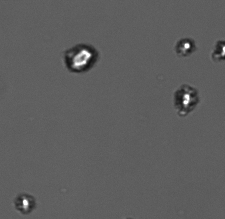Living Cell: (65, 43, 98, 73), (173, 84, 198, 115), (14, 194, 37, 215), (176, 38, 195, 54)
